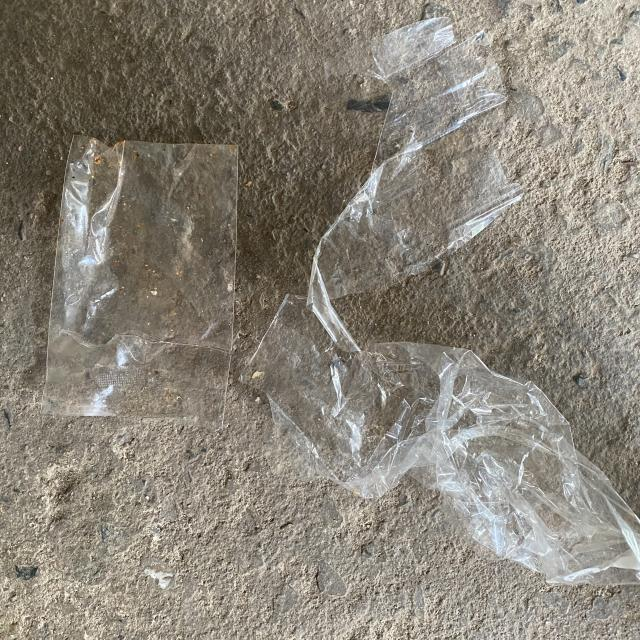Single-layer Plastic: (242, 18, 640, 580), (41, 135, 238, 426)
